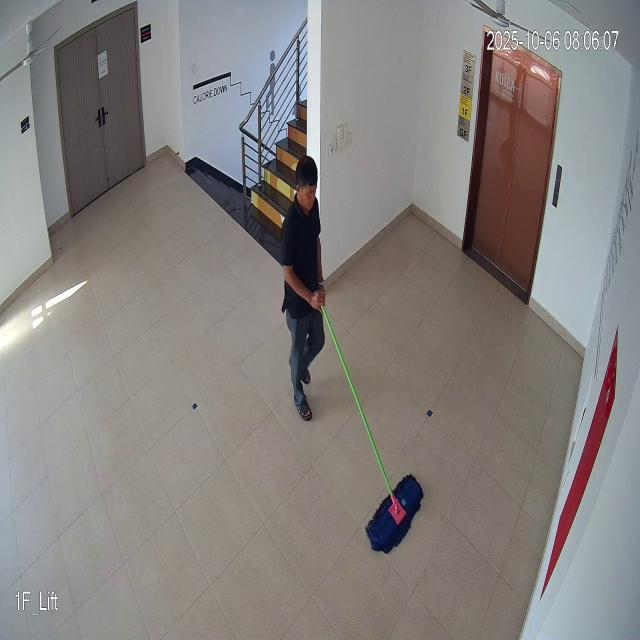face: (296, 149, 318, 217)
